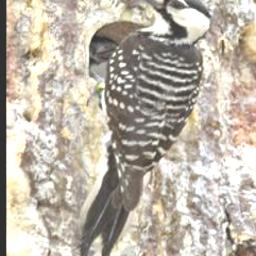Woodpecker: (74, 0, 214, 256)
